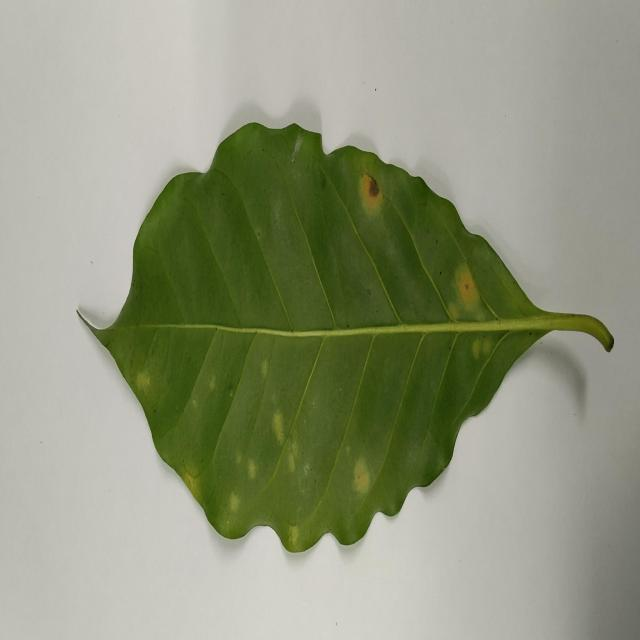Enfermedad-Roya: (78, 122, 615, 556)
